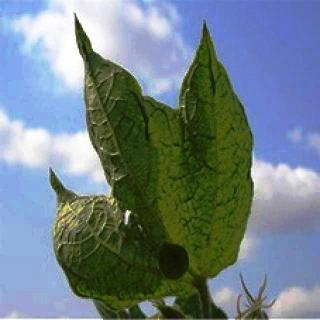curl: (45, 0, 254, 13)
